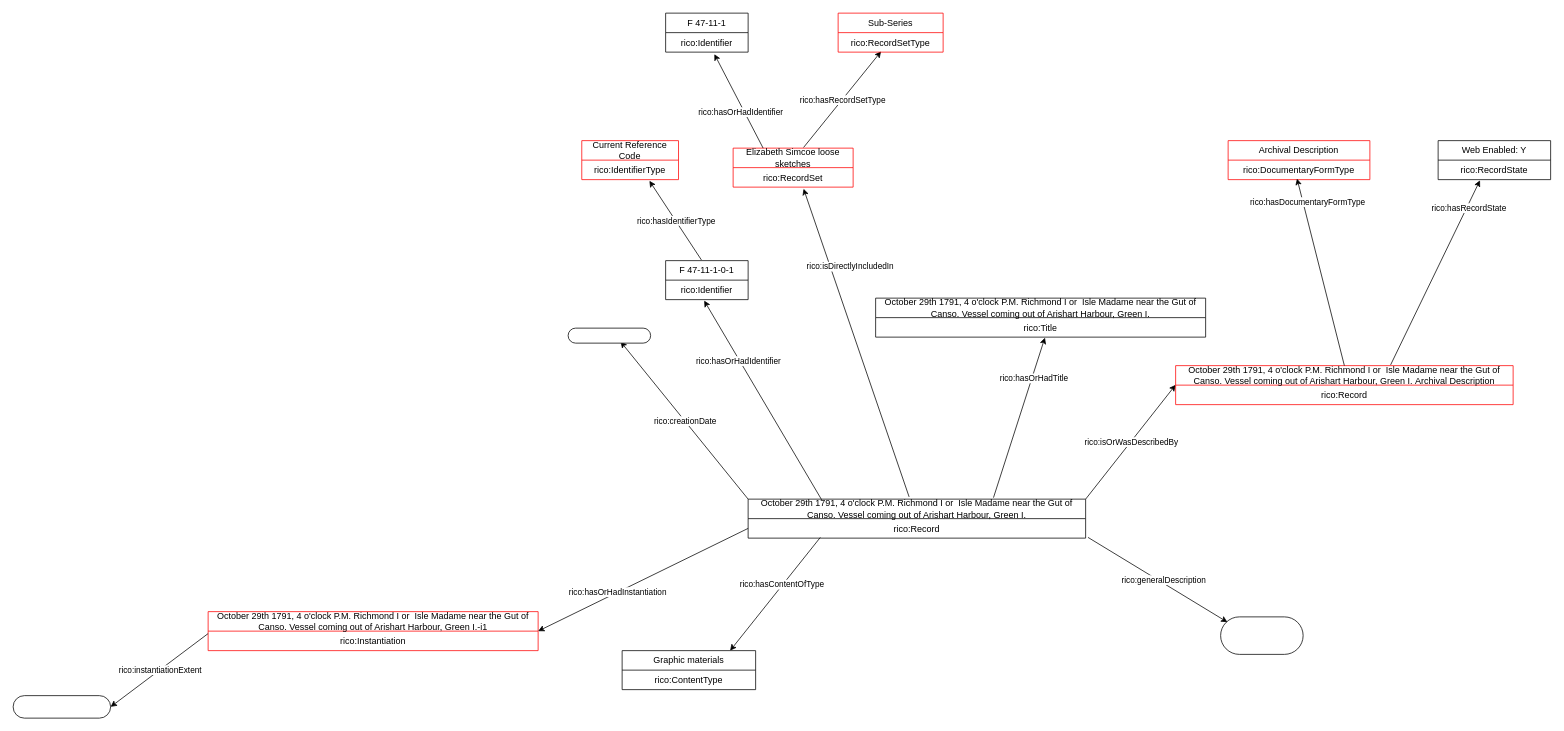
Some shapes in this 1564 by 731 pixel diagram are drawn without their labels. Here are the shapes that lost their labels. From the top down, the centre of each, then its label:
the point at 609,335: Oct. 29, 1791
the point at 1261,635: Notes: Old Code: 1
the point at 61,706: 1 watercolour on paper
